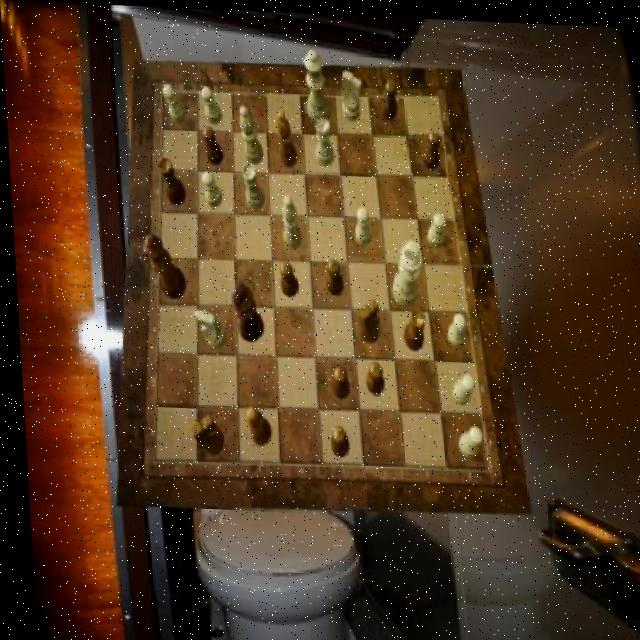bishop: (275, 107, 295, 165), (240, 405, 266, 444)
black-bishop: (226, 281, 260, 341)
black-king: (184, 413, 219, 454), (354, 295, 377, 341)
black-knight: (420, 127, 441, 166), (200, 124, 221, 163), (379, 78, 397, 118), (320, 255, 339, 292), (275, 258, 294, 294), (360, 358, 379, 393), (325, 363, 344, 397), (324, 423, 343, 456)
black-pawn: (139, 232, 183, 297)
black-queen: (157, 156, 185, 204), (397, 304, 422, 347)
black-rook: (237, 103, 262, 163), (279, 193, 299, 248)
white-bishop: (386, 236, 421, 303)
white-king: (190, 308, 222, 347), (340, 67, 363, 119)
white-knight: (161, 82, 186, 122), (451, 423, 477, 456), (199, 86, 221, 124), (446, 370, 471, 402), (199, 170, 220, 206), (350, 203, 369, 242), (442, 309, 463, 344), (424, 210, 444, 245)
white-pawn: (302, 47, 330, 122)
white-queen: (240, 162, 263, 209), (312, 115, 333, 164)
